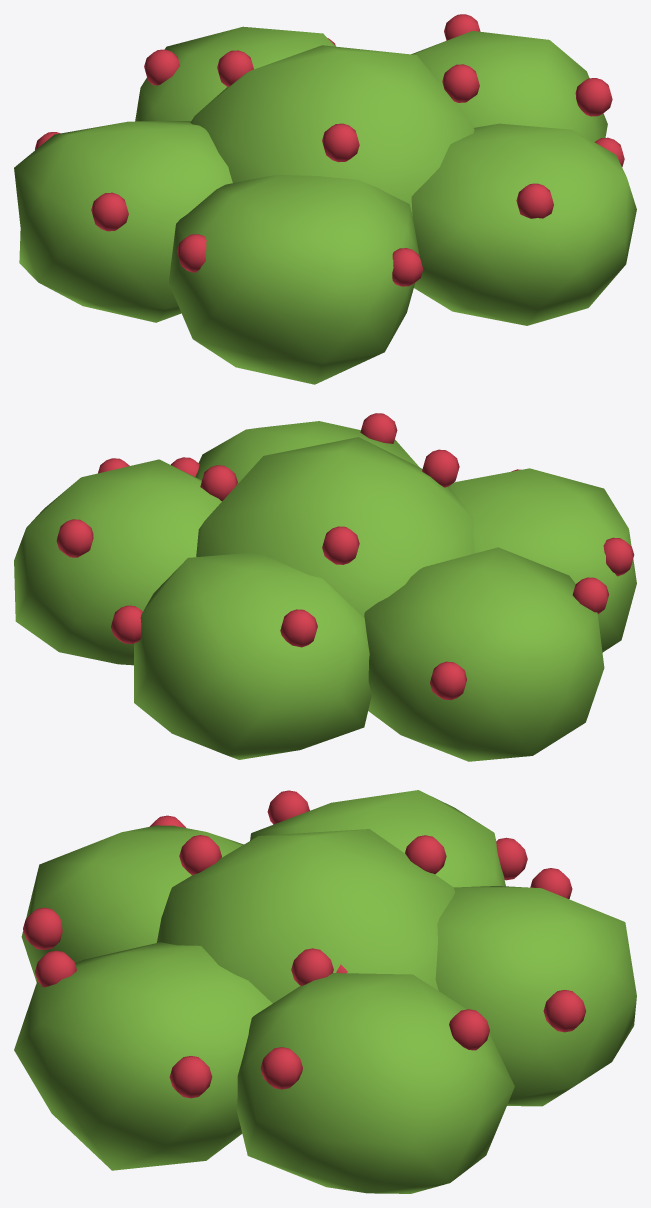
Rendered from bush_3.glb.
3 views of the same model, one above another, from view 1: azimuth 30°, elevation 25°; view 2: azimuth 150°, elevation 25°; view 3: azimuth 270°, elevation 25° (orthographic). The views are drawn at different scales.
Parts seen in each view (by area): view 1: Bush_3; view 2: Bush_3; view 3: Bush_3.
Boxes of the visible parts, bbox=[...] form: Bush_3: bbox=[14, 14, 636, 384]; Bush_3: bbox=[14, 413, 636, 761]; Bush_3: bbox=[14, 790, 636, 1193].
Bounding box in the file's own units: 2.47 × 0.9922 × 2.19.
